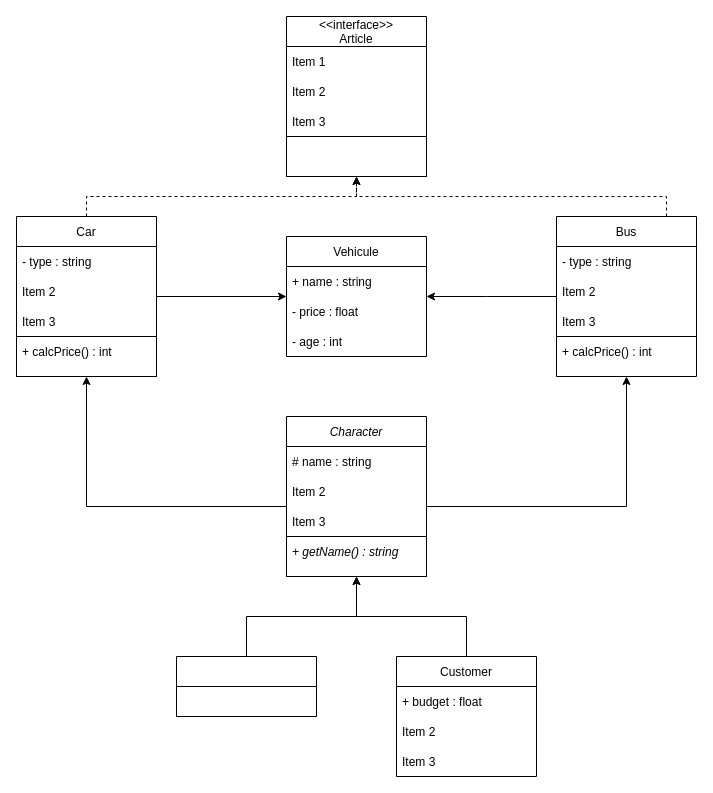
Image size: 713x793. Some labels were removed from this diagram. Each missing label, with the centre of its shape:
"+ getPrice() : float" goes at (356,156).
"Owner" goes at (246,686).
